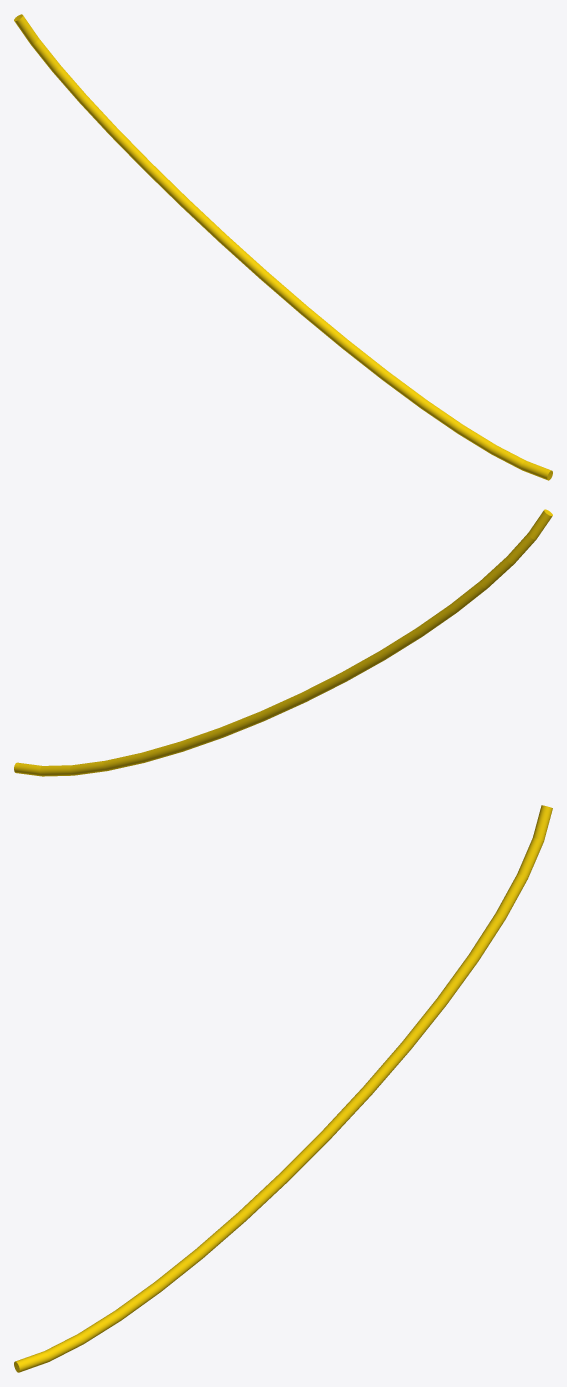
The model's file is Event_420107950_track_10.fbx.
The picture shows the model from 3 angles, top to bottom: view 1: azimuth 30°, elevation 25°; view 2: azimuth 210°, elevation 25°; view 3: azimuth 270°, elevation 25°; orthographic projection. The views are drawn at different scales.
Visible parts, largest first — view 1: Model; view 2: Model; view 3: Model.
Part boxes in pixels (x1,y1,x2,y2): Model: (14, 14, 552, 480); Model: (14, 509, 552, 776); Model: (14, 805, 552, 1372).
Size of the model in its own units: 1.32 by 1.51 by 1.81.
